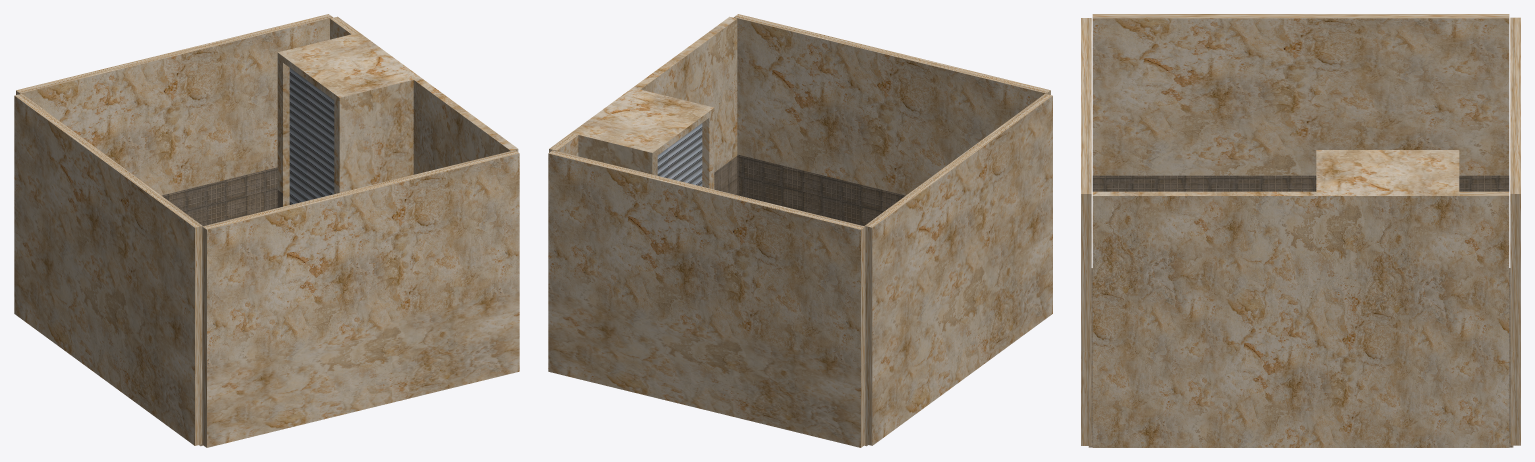
Rendered from terceraHabitaciónDemo.fbx.
3 renders of one model, left to right at view 1: azimuth 30°, elevation 25°; view 2: azimuth 150°, elevation 25°; view 3: azimuth 270°, elevation 25°, orthographic. The views are drawn at different scales.
Visible parts, largest first — view 1: Cube.048, Cube.046, Cube.001, Cube.047, Cube.045; view 2: Cube.001, Cube.046, Cube.048, Cube.047, Cube.045; view 3: Cube.047, Cube.046, Cube.001, Cube.048, Plane.008.
Boxes of the visible parts, left/top/right/bottom form: Cube.048: left=202, top=150, right=519, bottom=447; Cube.046: left=14, top=94, right=202, bottom=445; Cube.001: left=16, top=14, right=332, bottom=225; Cube.047: left=277, top=16, right=518, bottom=207; Cube.045: left=289, top=68, right=334, bottom=204; Cube.001: left=548, top=150, right=865, bottom=447; Cube.046: left=865, top=93, right=1052, bottom=445; Cube.048: left=734, top=14, right=1050, bottom=226; Cube.047: left=549, top=16, right=737, bottom=194; Cube.045: left=657, top=123, right=702, bottom=186; Cube.047: left=1092, top=150, right=1509, bottom=447; Cube.046: left=1092, top=14, right=1509, bottom=191; Cube.001: left=1510, top=17, right=1520, bottom=445; Cube.048: left=1081, top=18, right=1091, bottom=445; Plane.008: left=1088, top=268, right=1513, bottom=447.
Size of the model in its own units: 633 by 620 by 400.
